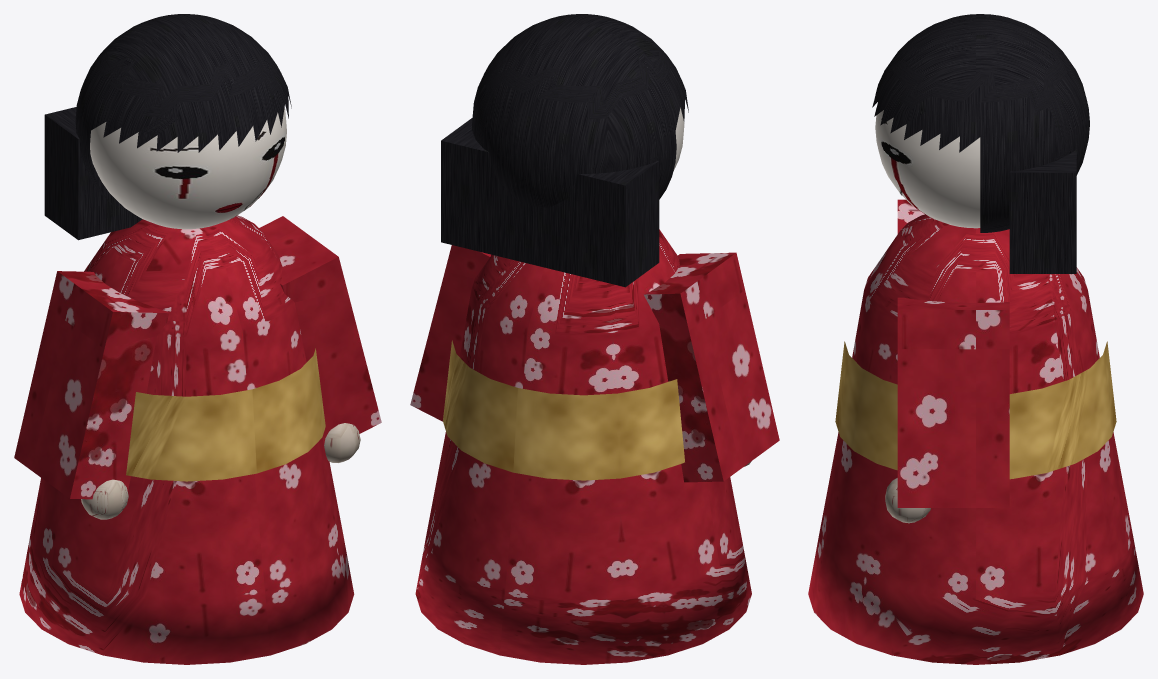
Rendered from 日本人形_jdoll.glb.
3 views of the same model, side by side, from view 1: azimuth 30°, elevation 25°; view 2: azimuth 150°, elevation 25°; view 3: azimuth 270°, elevation 25° (orthographic).
Visible parts, largest first — view 1: jdoll; view 2: jdoll; view 3: jdoll.
Boxes of the visible parts, bbox=[...] form: jdoll: bbox=[14, 14, 381, 664]; jdoll: bbox=[410, 14, 779, 664]; jdoll: bbox=[808, 14, 1143, 664].
Bounding box in the file's own units: 0.1613 × 0.281 × 0.15.
5 materials, 5 textured.
